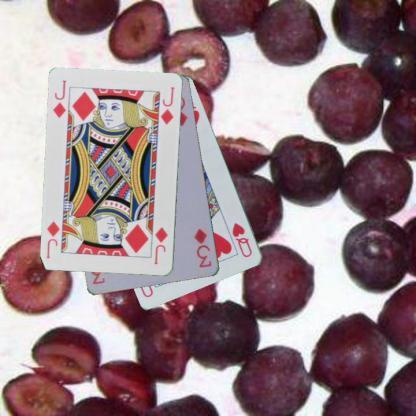3d: (191, 226, 213, 269)
Jd: (152, 225, 170, 266), (50, 78, 68, 119)
Qh: (229, 220, 254, 259)
